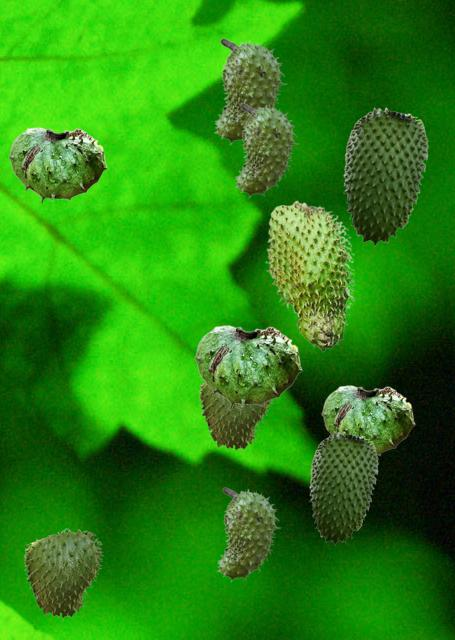guyabano: (265, 200, 355, 351), (343, 107, 427, 245), (194, 325, 301, 409), (213, 38, 286, 144), (309, 431, 377, 544), (8, 127, 106, 203), (24, 528, 103, 619), (321, 385, 414, 456), (234, 103, 298, 197), (216, 487, 280, 581), (199, 380, 273, 451)
